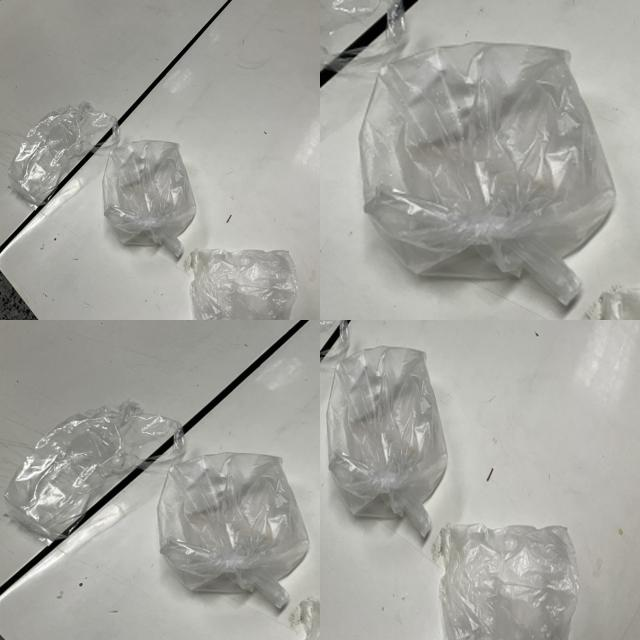Single-layer Plastic: (360, 42, 615, 305), (5, 401, 185, 540), (158, 452, 309, 609), (326, 346, 448, 536), (439, 524, 579, 640), (9, 101, 119, 205), (102, 140, 196, 258), (190, 249, 298, 320)
